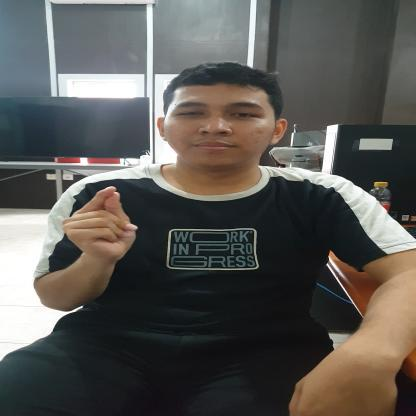R: (56, 185, 140, 268)
